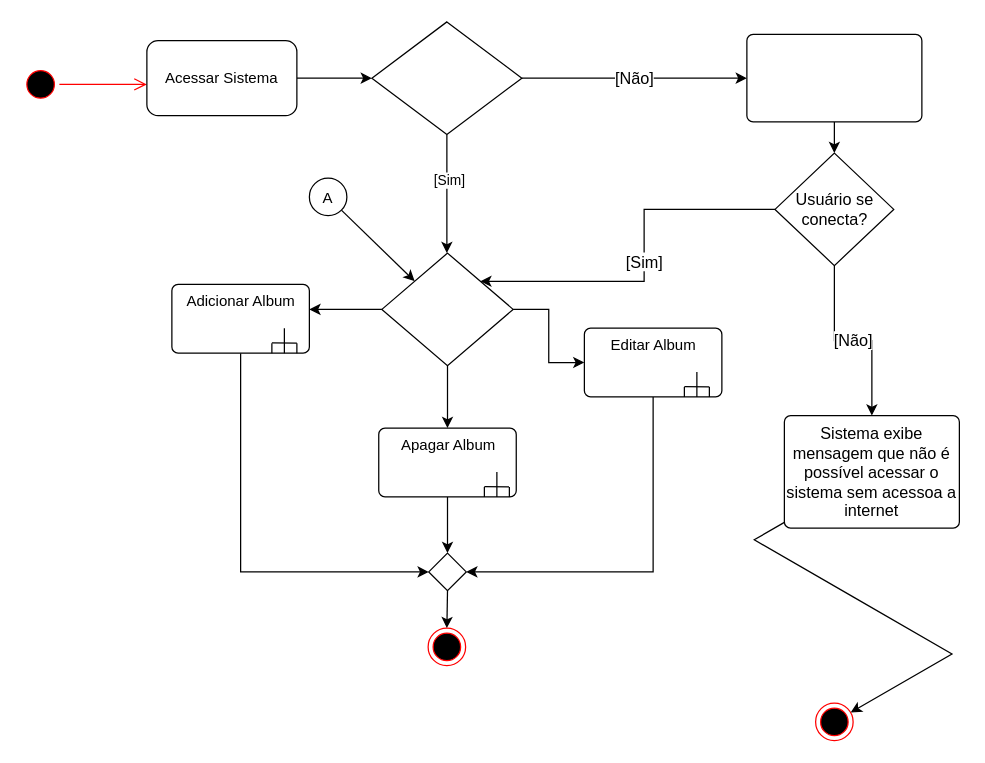
Image size: 985x763. Some labels were removed from this diagram. The box of each missing label's shape, as (x1, y1, x2, y2) in pixels:
Internet ok?: (371, 21, 522, 134)
O que deseja fazer?: (381, 252, 513, 366)
Sistema retorna mensagem solicitando que o usuário se conecte a internet: (746, 33, 922, 122)
